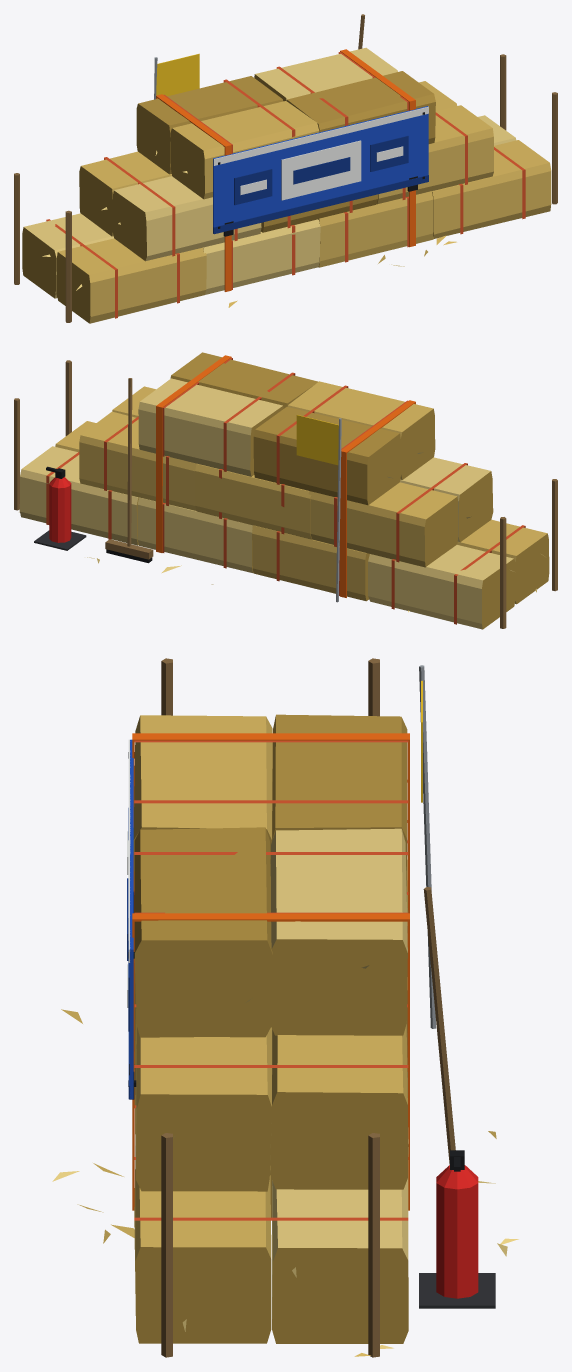
File: stand_bales.glb
3 renders of one model, top to bottom at view 1: azimuth 30°, elevation 25°; view 2: azimuth 150°, elevation 25°; view 3: azimuth 270°, elevation 25°, orthographic. The views are drawn at different scales.
Parts seen in each view (by area): view 1: Stand_Bales; view 2: Stand_Bales; view 3: Stand_Bales.
Part boxes in pixels (box(x1,y1,x2,y2)): Stand_Bales: box(14, 14, 557, 323); Stand_Bales: box(14, 352, 557, 629); Stand_Bales: box(52, 658, 518, 1357).
Size of the model in its own units: 3.84 by 1.35 by 1.58.
